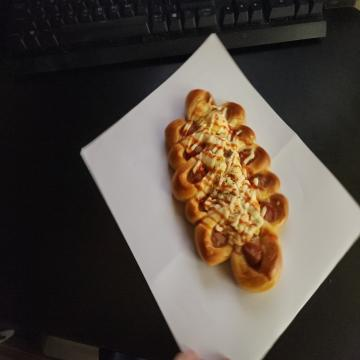pizza_bread: (165, 90, 288, 294)
